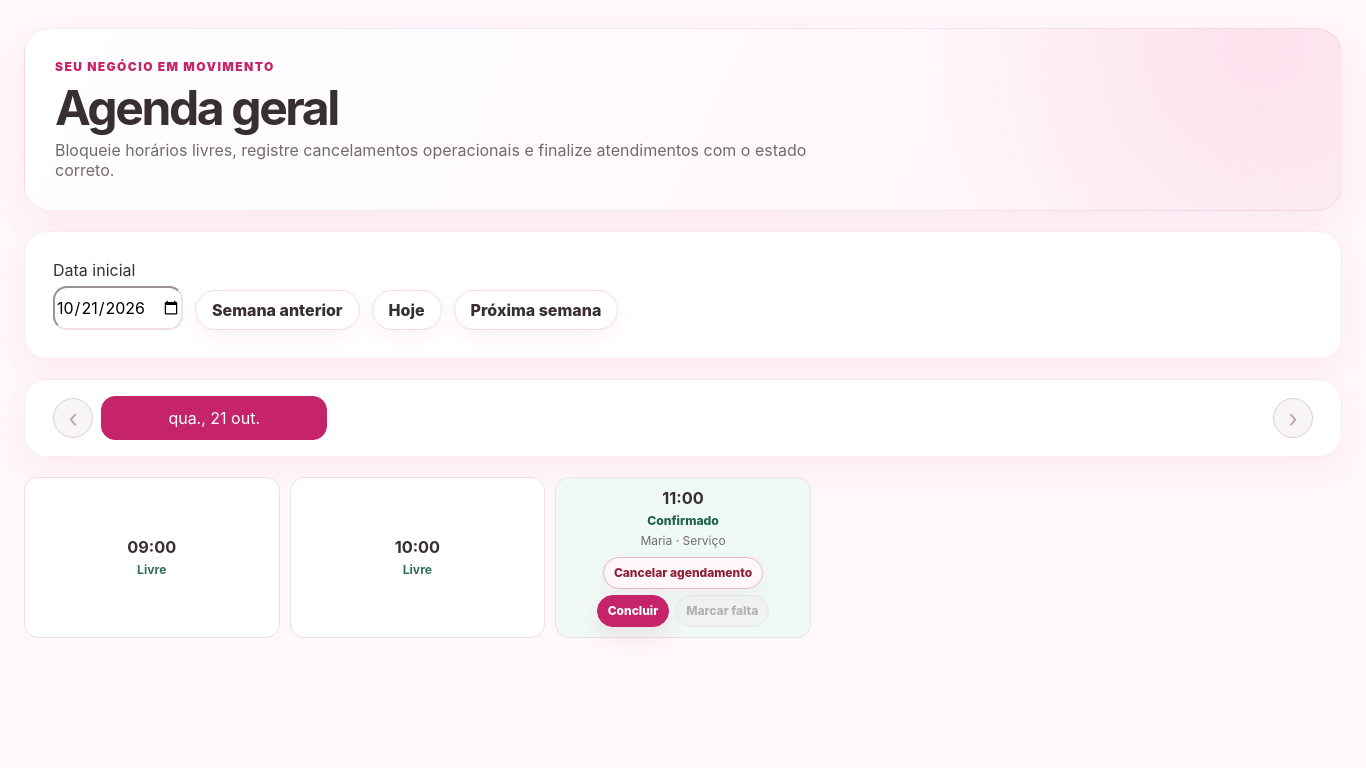
Test: recuperação e período da agenda da dona › mantém o motivo e permite corrigir uma rejeição de validação no cancelamento
Click the button "Cancelar agendamento": (683, 573) top-left (603, 557), bottom-right (763, 589)
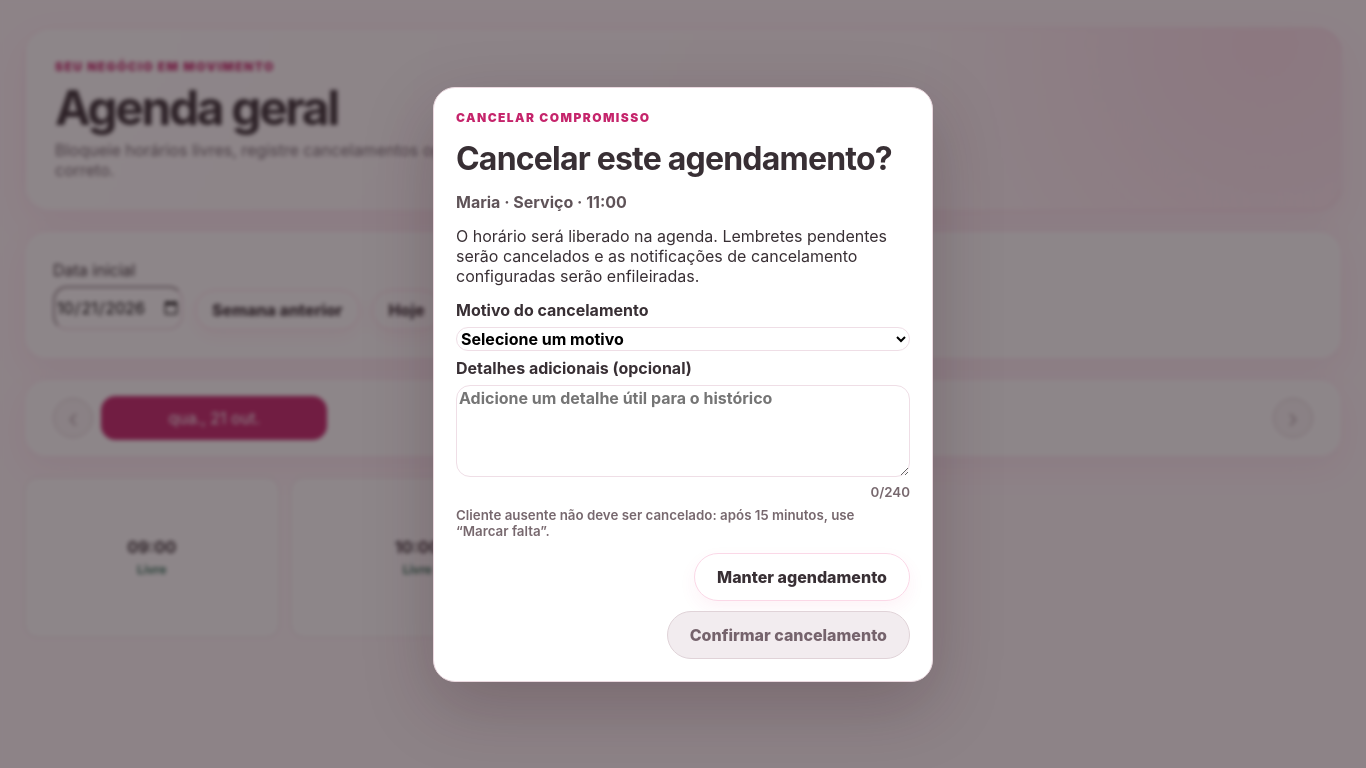
Select "Outro motivo" in the dropdown labelled "Motivo do cancelamento": (683, 338) top-left (456, 326), bottom-right (910, 350)
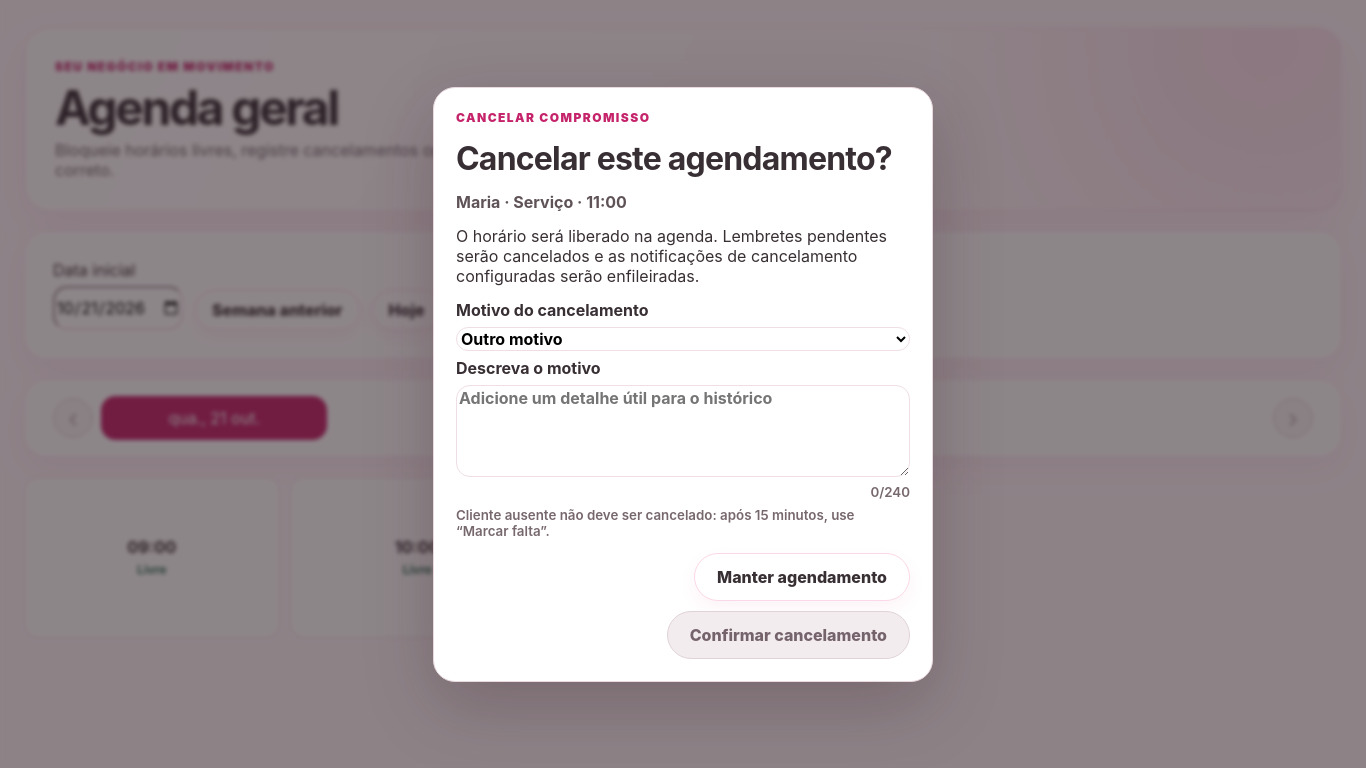
In the text box labelled "Descreva o motivo": (683, 430) top-left (456, 384), bottom-right (910, 476), type "Interrupção da operação"
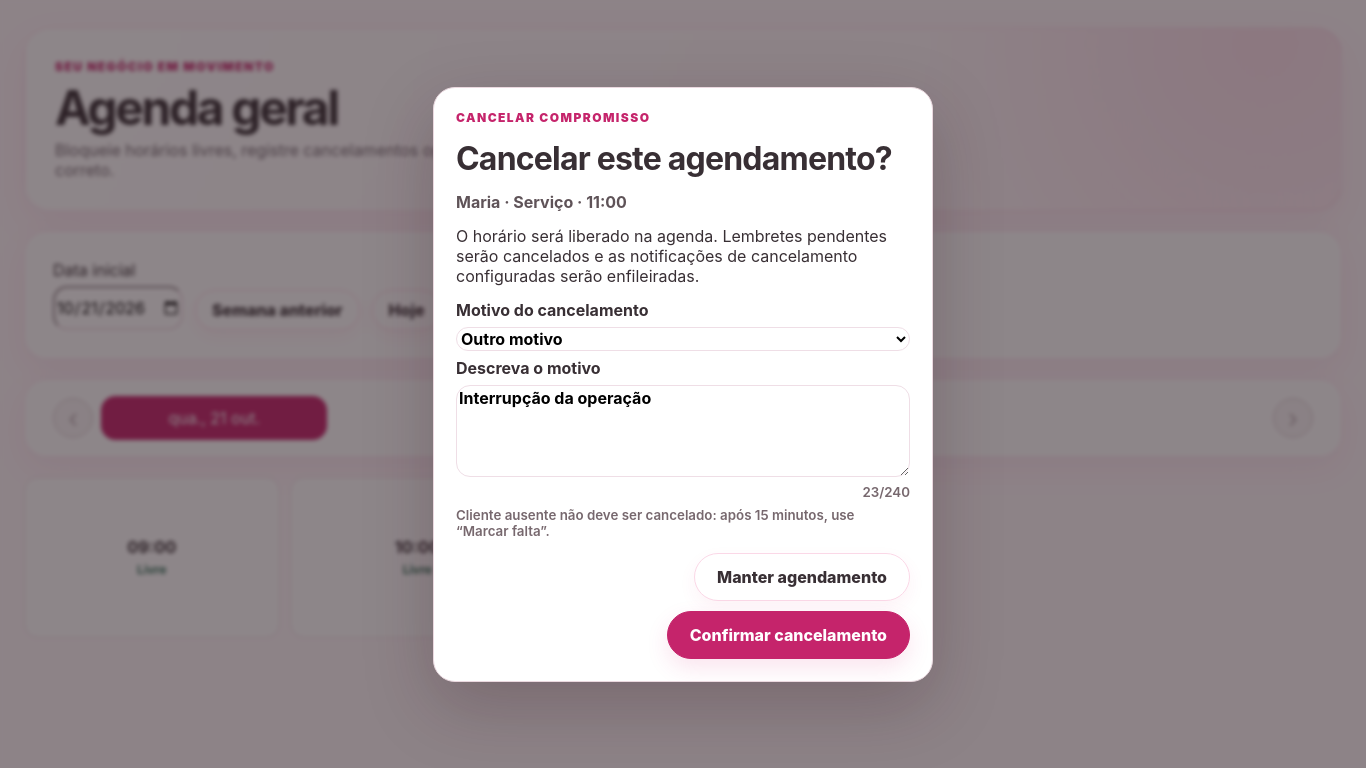
Click the button "Confirmar cancelamento": (788, 634) top-left (667, 610), bottom-right (910, 658)
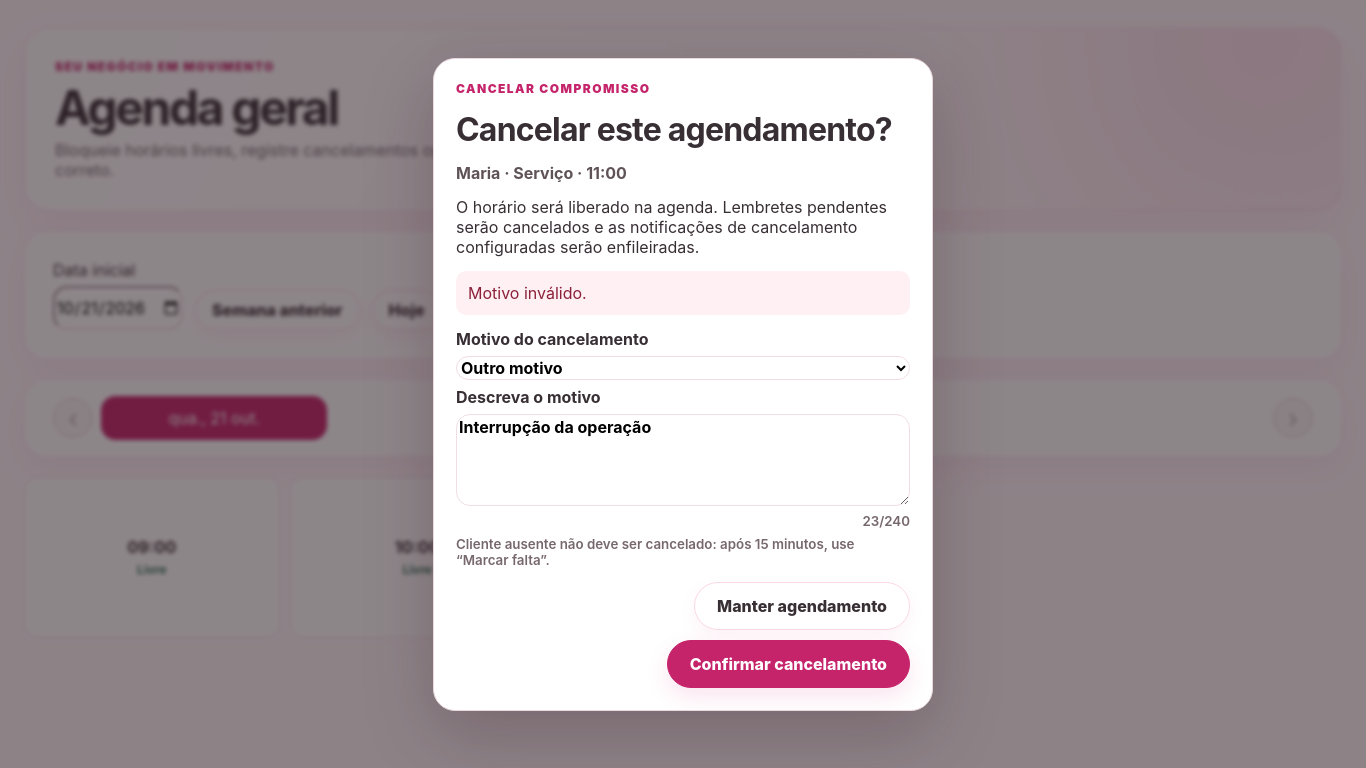
Expected: the button "Confirmar cancelamento" is enabled, top-left (667, 640), bottom-right (910, 688)
Expected: the text "Motivo inválido." is shown, top-left (456, 270), bottom-right (910, 314)
